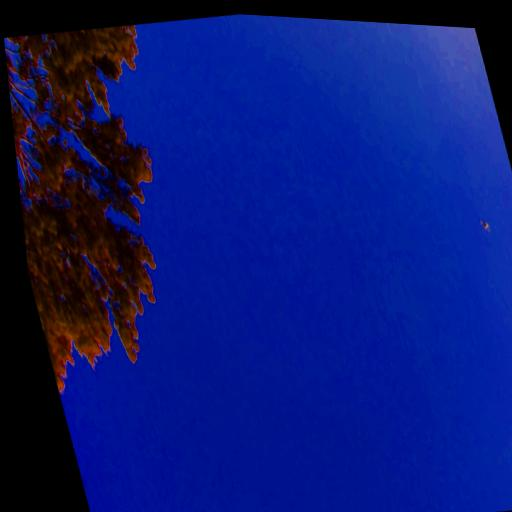drones: (476, 215, 493, 236)
